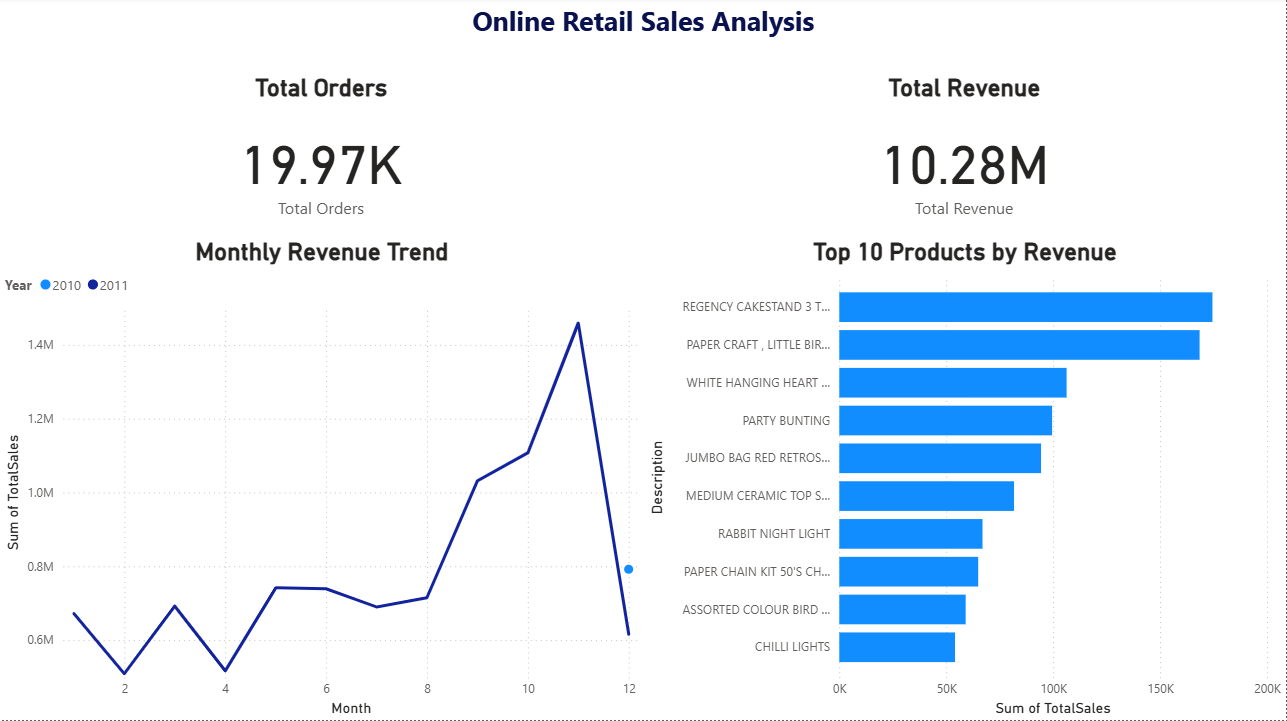

This screenshot's page, from the dashboard's own definition file:
{"tool":"powerbi","page":{"name":"Page 1","canvas":[1280,720],"ordinal":0},"visuals":[{"type":"card","title":"Total Orders","fields":{"Values":["Count(OnlineRetail.InvoiceNo)"]},"box":[0,75.5,639.5,163.3],"z":0},{"type":"actionButton","box":[0,0,100,40],"z":1000},{"type":"card","title":"Total Revenue","fields":{"Values":["Sum(OnlineRetail.TotalSales)"]},"box":[639.5,75.5,640.8,163.3],"z":2000},{"type":"lineChart","title":"Monthly Revenue Trend","fields":{"Y":["Sum(OnlineRetail.TotalSales)"],"Series":["OnlineRetail.Year"],"Category":["OnlineRetail.Month"]},"box":[0,238.8,640.8,481.6],"z":3000},{"type":"barChart","title":"Top 10 Products by Revenue","fields":{"Category":["OnlineRetail.Description"],"Y":["Sum(OnlineRetail.TotalSales)"]},"box":[640.8,238.8,639.5,481.6],"z":4000},{"type":"textbox","box":[0,0,1280.3,75.5],"z":4001}]}

Visuals, with their boxes in screenshot pixels (x1, y1, x2, y2), scaled from the page's 1280x720 canvas onto the 1287x721 screenshot:
"Total Orders" card: [0, 76, 643, 239]
actionButton: [0, 0, 101, 40]
"Total Revenue" card: [643, 76, 1286, 239]
"Monthly Revenue Trend" lineChart: [0, 239, 644, 720]
"Top 10 Products by Revenue" barChart: [644, 239, 1286, 720]
textbox: [0, 0, 1286, 76]
